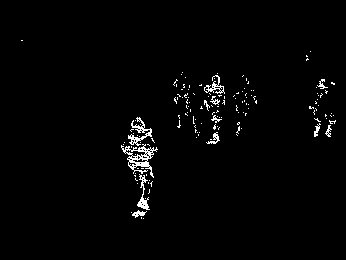person: (122, 117, 157, 220), (205, 76, 226, 145), (325, 80, 336, 137), (312, 78, 322, 137)
